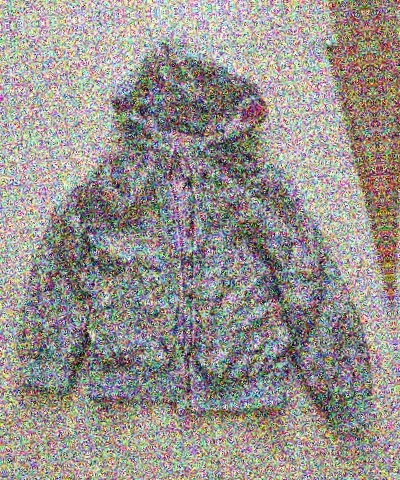Hoodie: (0, 53, 393, 455), (379, 18, 400, 420)
